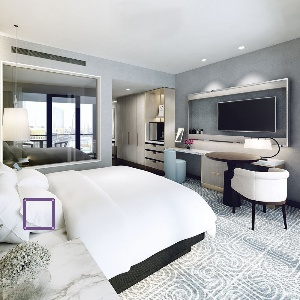square: (21, 196, 57, 232)
